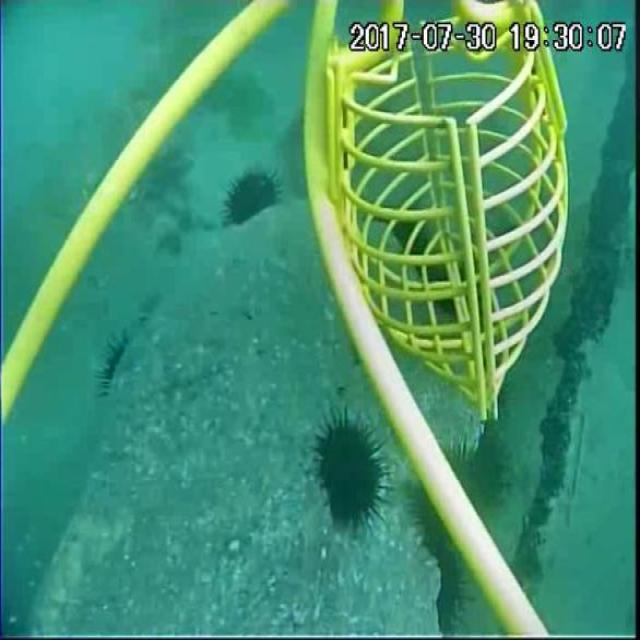echinus: (314, 414, 381, 522), (224, 171, 276, 224)
